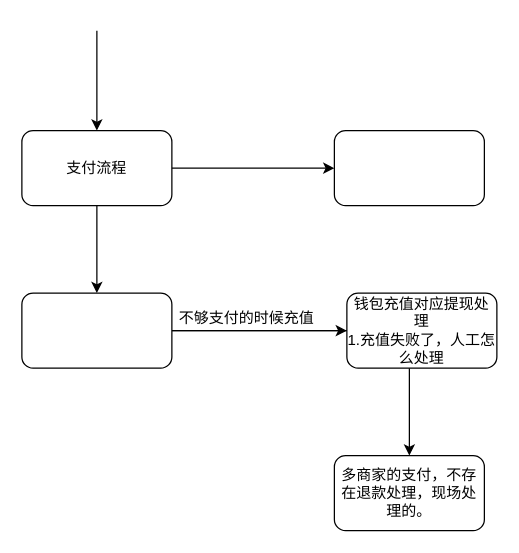
Image size: 519x553. Some labels were removed from this diagram. The box of each missing label's shape, as (x1, y1, x2, y2) in pixels:
旧的卡的支付方式: (333, 129, 484, 206)
钱包支付: (21, 292, 172, 368)
